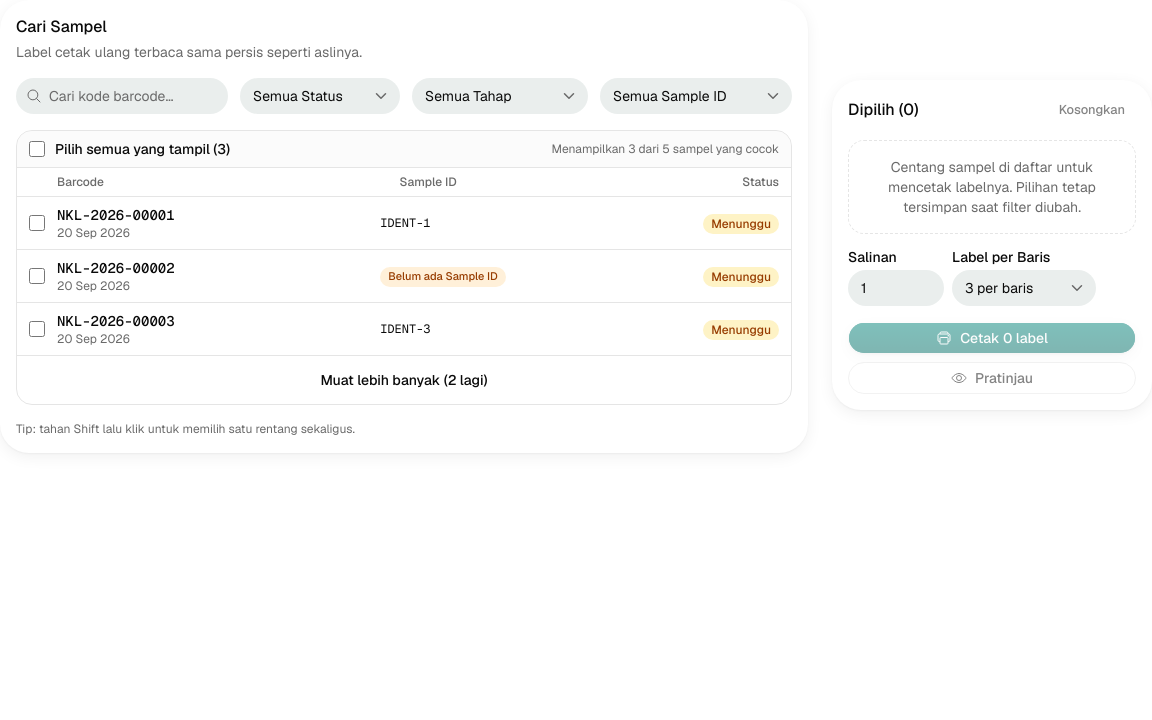
LabelReprint › loads the rest onto the bottom of the list instead of hiding it
Expected: the text "NKL-2026-00001" is shown, [57, 206, 175, 224]
Expected: the text "NKL-2026-00004" is not shown
Step 1. Click the button "Muat lebih banyak (2 lagi)" → (404, 380), box [25, 364, 783, 396]
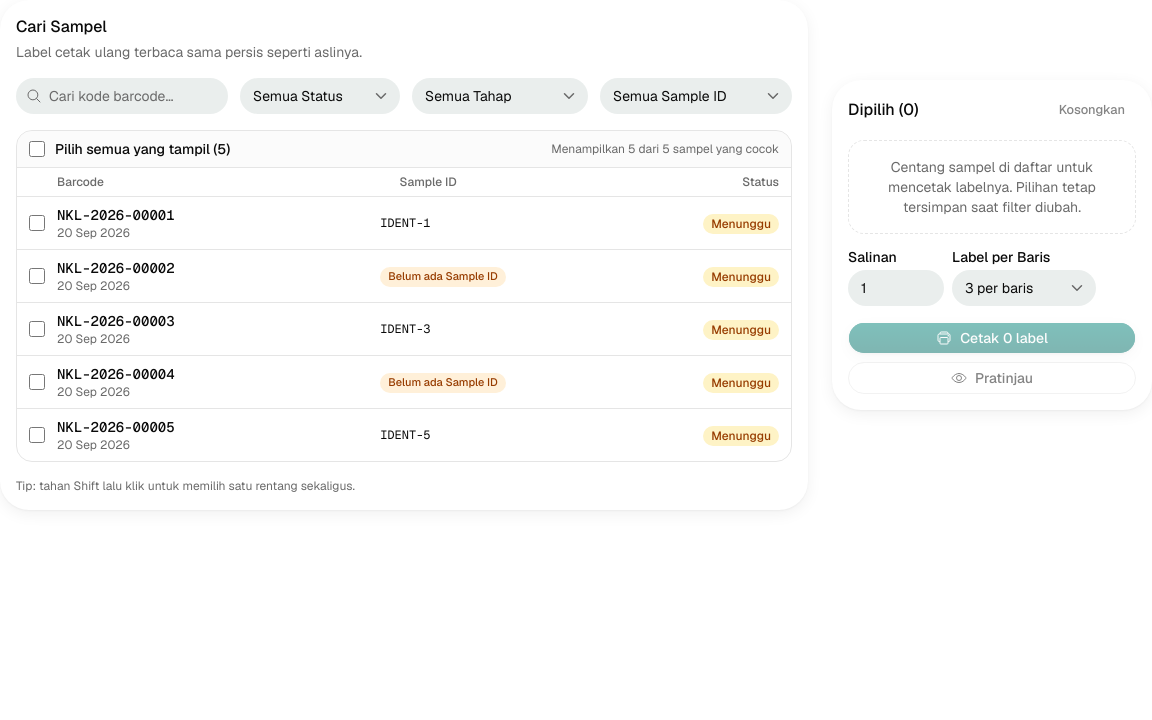
Expected: the text "NKL-2026-00001" is shown, [57, 206, 175, 224]
Expected: the text "NKL-2026-00005" is shown, [57, 418, 175, 436]
Expected: the button "Muat lebih banyak" is gone
